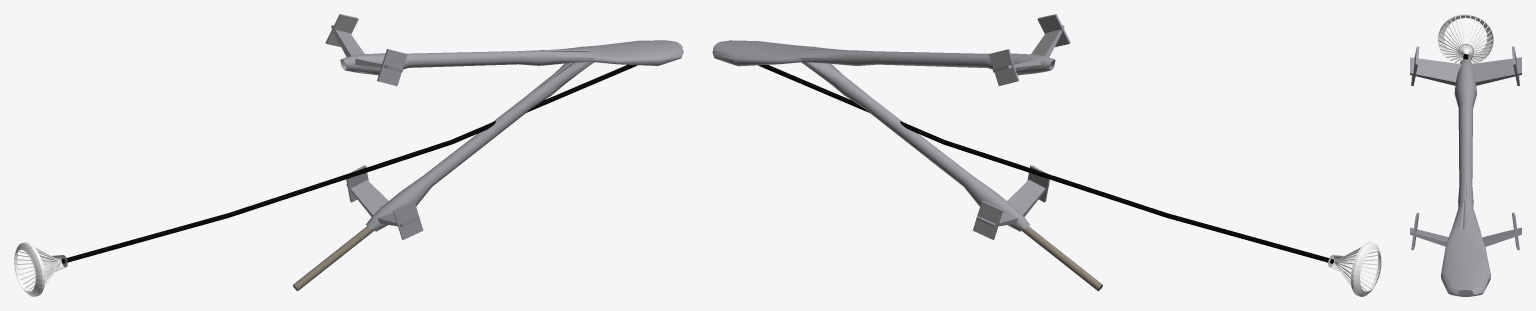
3 renders of one model, left to right at view 1: azimuth 30°, elevation 25°; view 2: azimuth 150°, elevation 25°; view 3: azimuth 270°, elevation 25°, orthographic.
Parts seen in each view (by area): view 1: 立方体.001, 立方体, 立方体.002, boom.001, innerBoom.001; view 2: 立方体.001, 立方体, 立方体.002, boom.001, innerBoom.001; view 3: 立方体, boom.001, 立方体.002, 立方体.001.
Part boxes in pixels (x1,y1,x2,y2): 立方体.001: (346, 46, 595, 239); 立方体: (325, 14, 593, 85); 立方体.002: (14, 64, 637, 296); boom.001: (581, 40, 683, 65); innerBoom.001: (293, 226, 374, 291); 立方体.001: (799, 46, 1049, 239); 立方体: (801, 14, 1070, 85); 立方体.002: (758, 65, 1381, 296); boom.001: (712, 40, 816, 66); innerBoom.001: (1022, 226, 1102, 291); 立方体: (1410, 46, 1521, 231); boom.001: (1441, 228, 1490, 296); 立方体.002: (1438, 14, 1493, 63); 立方体.001: (1410, 213, 1521, 250).
Size of the model in its own units: 25.41 by 9.01 by 3.74.
